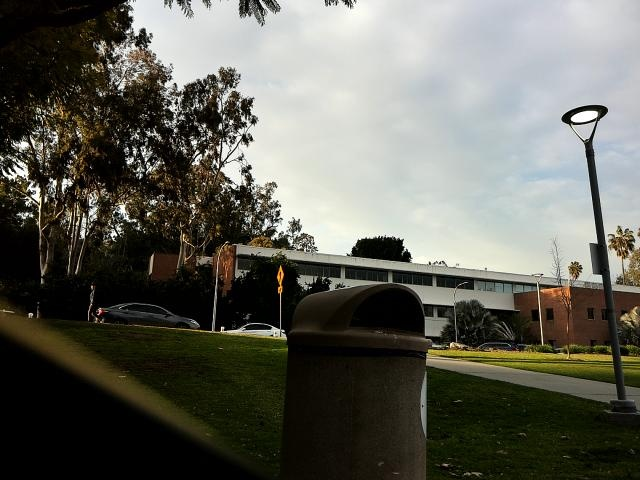trashcan: (273, 275, 441, 480)
